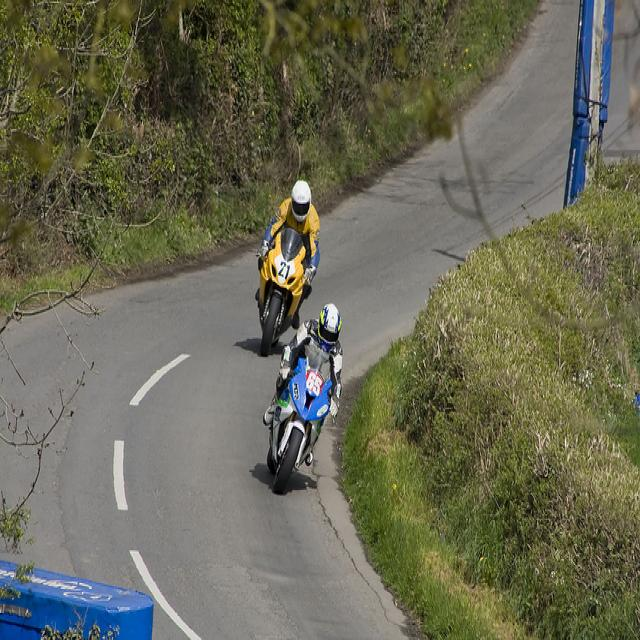motor: (265, 341, 335, 498), (257, 225, 309, 361)
